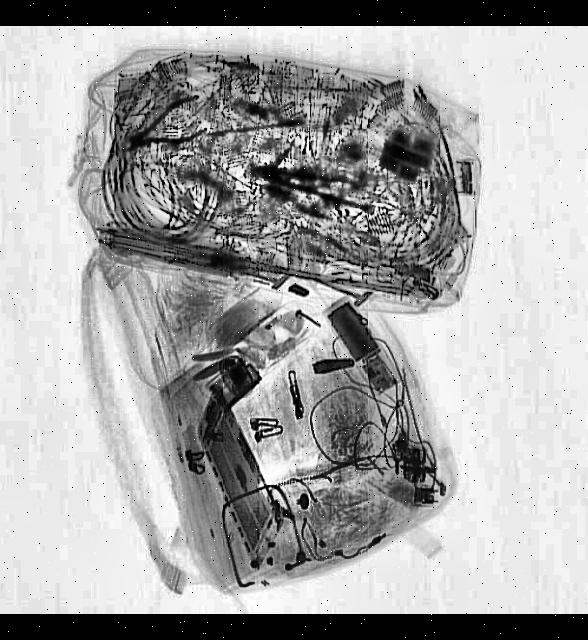Pliers: (111, 92, 211, 170), (248, 156, 373, 214)
